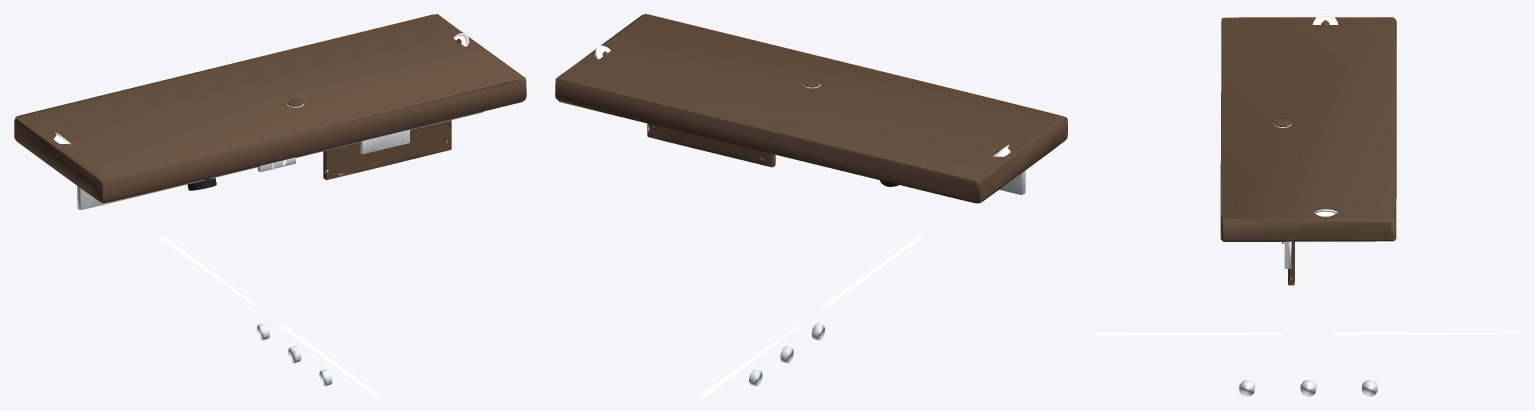
The model's file is dashboard_classic.glb.
3 views of the same model, side by side, from view 1: azimuth 30°, elevation 25°; view 2: azimuth 150°, elevation 25°; view 3: azimuth 270°, elevation 25° (orthographic).
Parts seen in each view (by area): view 1: Dash_Classic_Leather_Top, Dash_Classic_Glovebox_Door, GEO_Dash_AmbientLightGuide, Dash_Classic_Aluminum_Fascia, Dash_Classic_Ashtray_Drawer, GEO_Dash_ClimateDials; view 2: Dash_Classic_Leather_Top, Dash_Classic_Glovebox_Door, GEO_Dash_AmbientLightGuide, GEO_Dash_ClimateDials; view 3: Dash_Classic_Leather_Top, GEO_Dash_AmbientLightGuide, GEO_Dash_ClimateDials.
Part boxes in pixels (x1=…): Dash_Classic_Leather_Top: x1=14, y1=14, x2=526, y2=203; Dash_Classic_Glovebox_Door: x1=323, y1=120, x2=451, y2=179; GEO_Dash_AmbientLightGuide: x1=160, y1=236, x2=380, y2=396; Dash_Classic_Aluminum_Fascia: x1=77, y1=111, x2=483, y2=210; Dash_Classic_Ashtray_Drawer: x1=360, y1=129, x2=409, y2=154; GEO_Dash_ClimateDials: x1=256, y1=324, x2=332, y2=386; Dash_Classic_Leather_Top: x1=555, y1=14, x2=1067, y2=203; Dash_Classic_Glovebox_Door: x1=647, y1=123, x2=775, y2=167; GEO_Dash_AmbientLightGuide: x1=701, y1=236, x2=921, y2=396; GEO_Dash_ClimateDials: x1=749, y1=323, x2=824, y2=386; Dash_Classic_Leather_Top: x1=1220, y1=17, x2=1396, y2=241; GEO_Dash_AmbientLightGuide: x1=1096, y1=332, x2=1520, y2=335; GEO_Dash_ClimateDials: x1=1239, y1=380, x2=1377, y2=396.
Bounding box in the file's own units: 1.42 × 0.8828 × 1.25.
